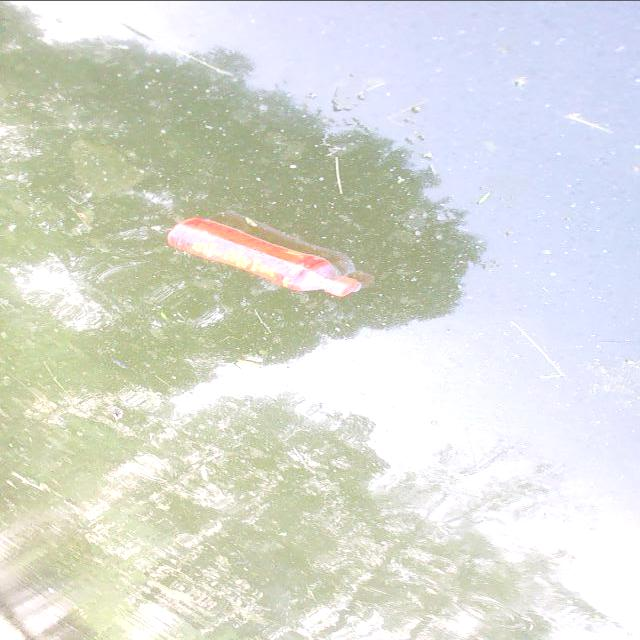bottle: (134, 196, 393, 310)
